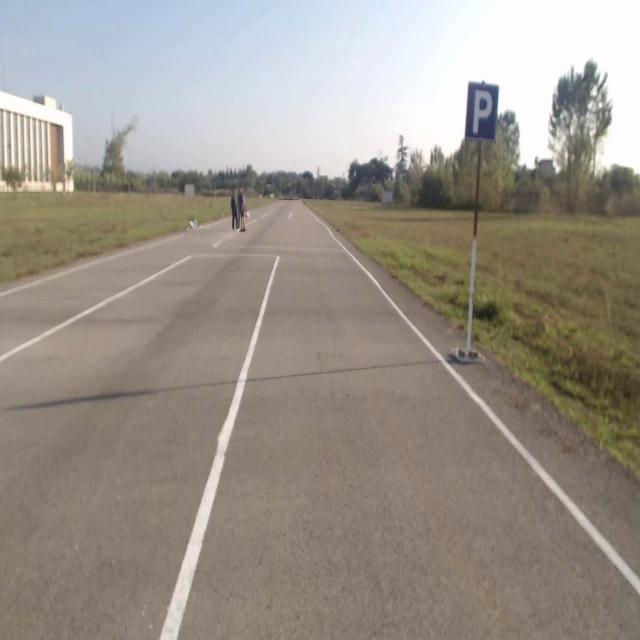park: (466, 83, 496, 141)
